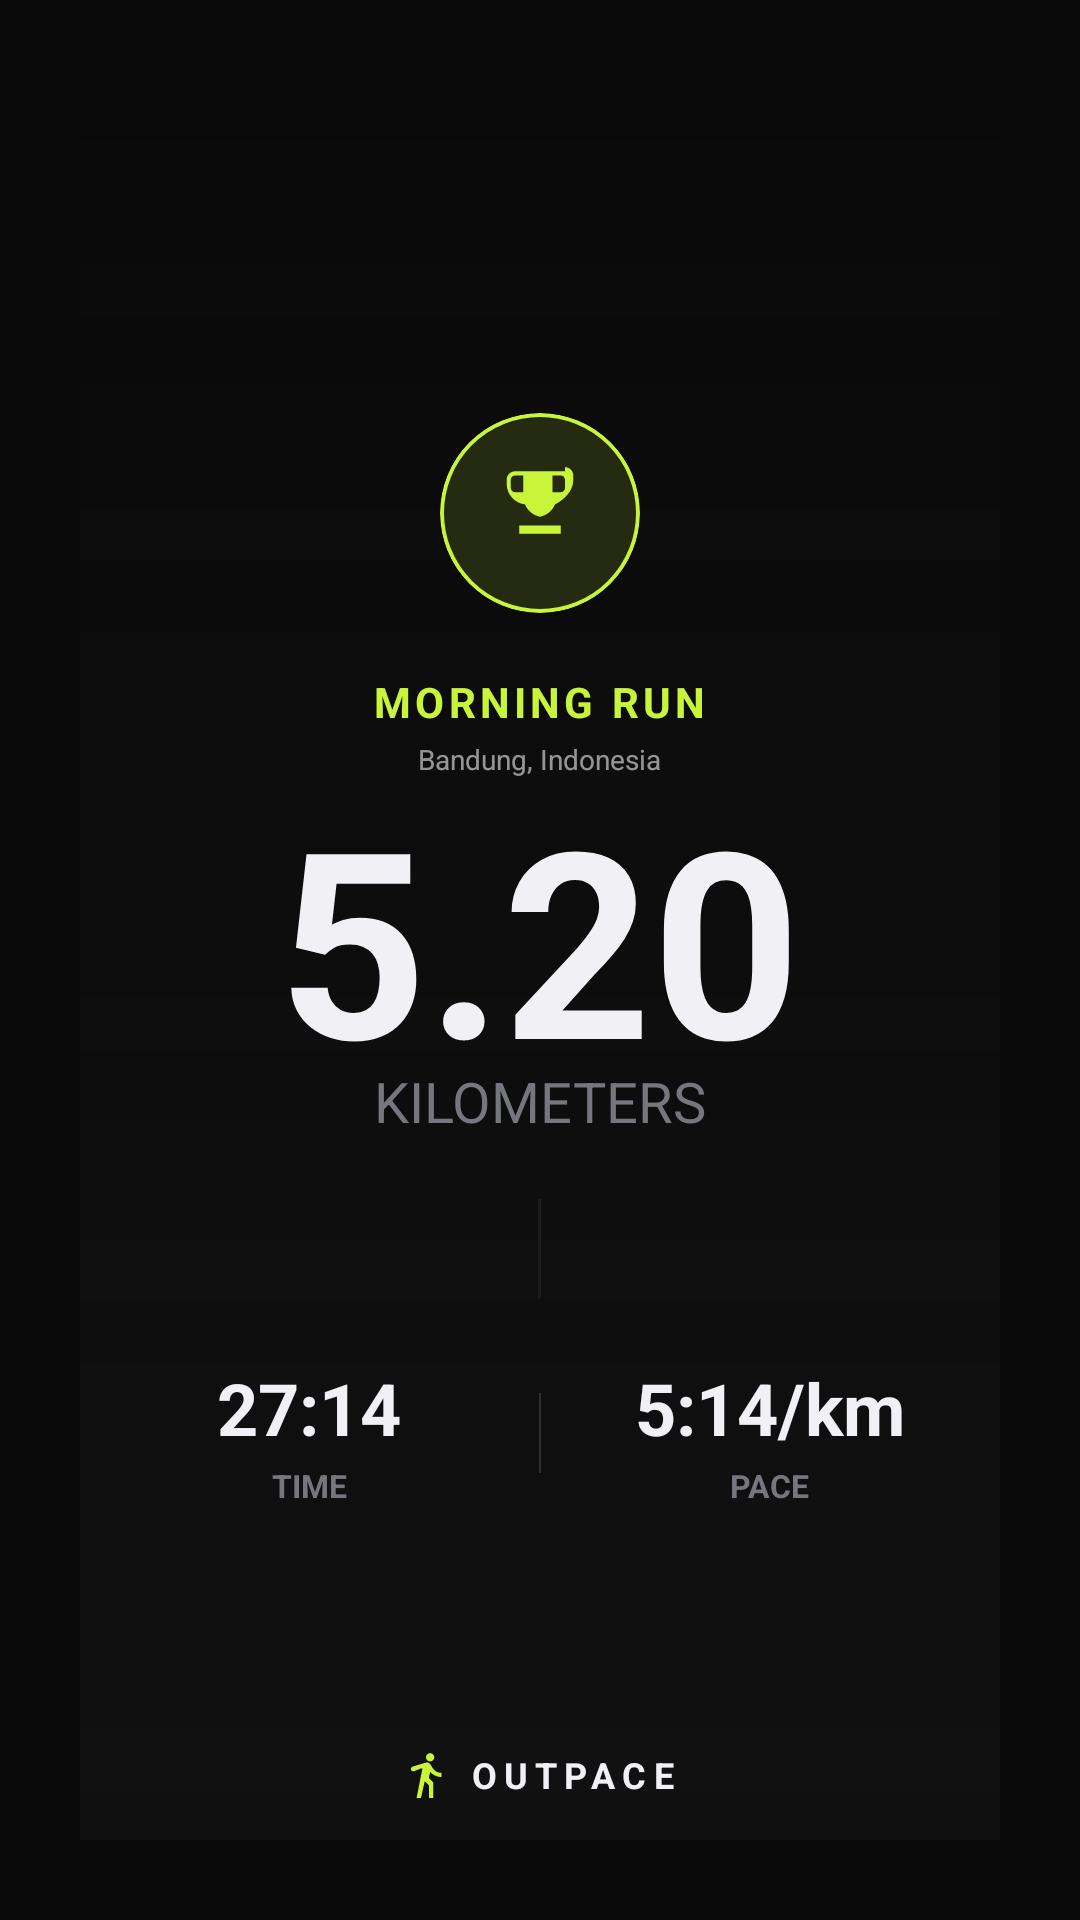

Screen size 1080 x 1920. Icon name, then its center in pixels as [x,y]:
trophy: [540,500]
